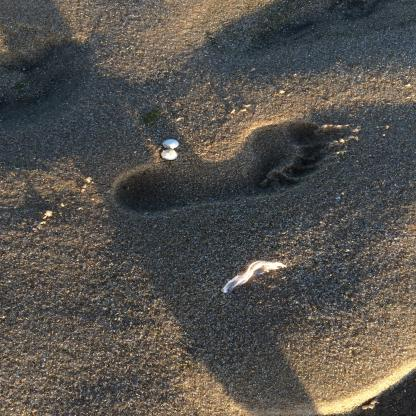trash: (216, 258, 290, 298)
